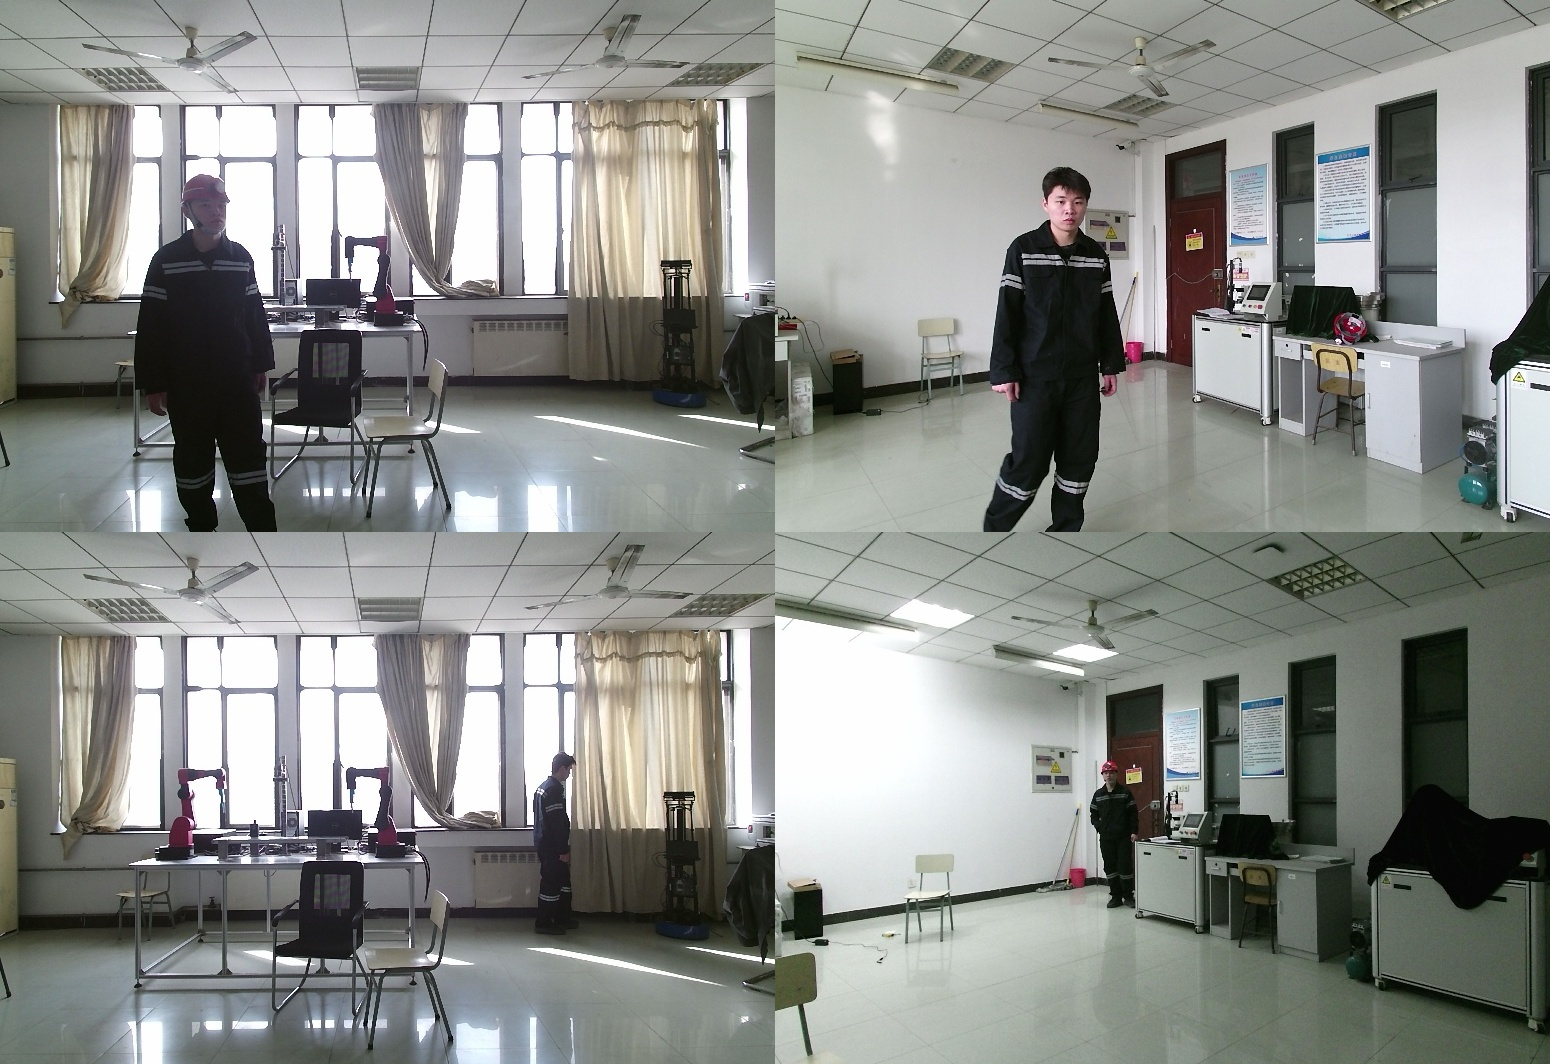person: (139, 176, 293, 532), (972, 167, 1122, 532), (535, 758, 602, 941), (1089, 762, 1140, 911)
